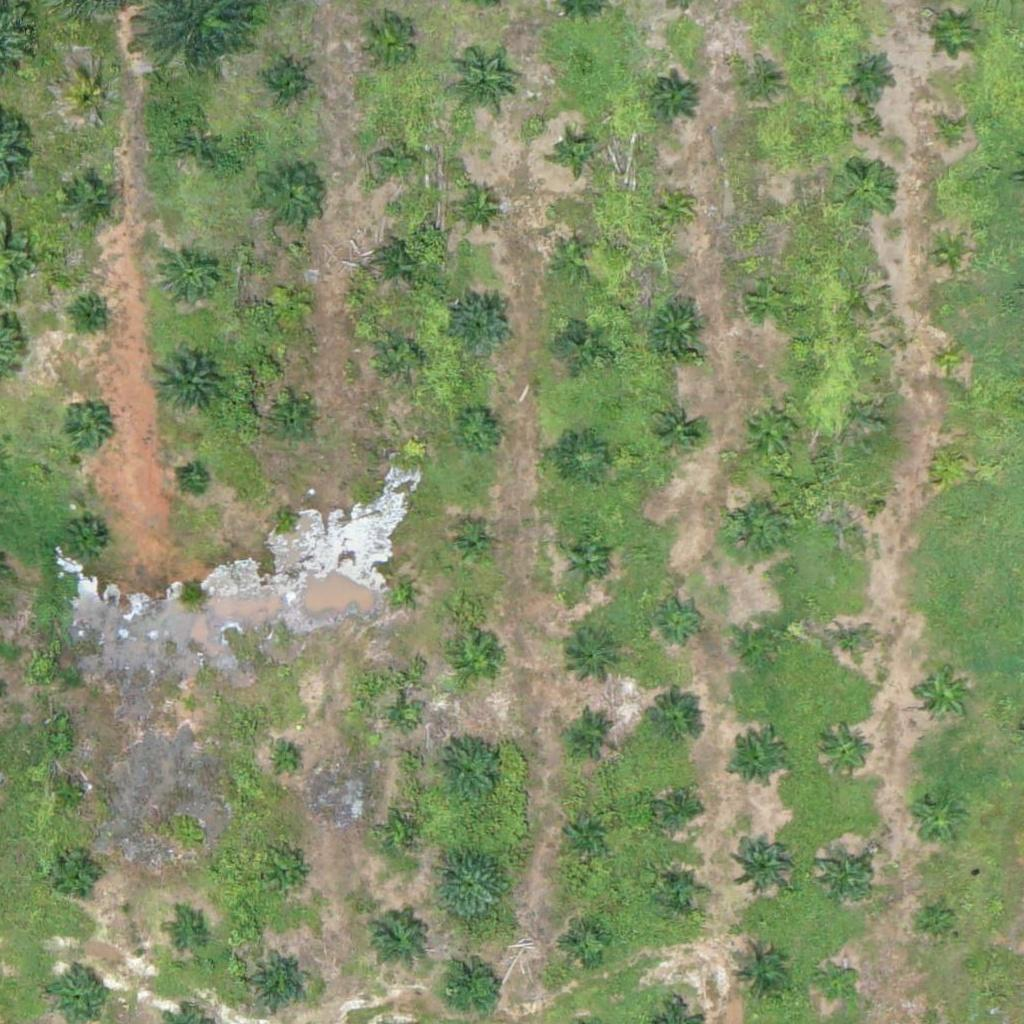Kelapa_Sawit: (430, 732, 505, 808), (434, 846, 509, 922), (151, 344, 226, 420), (363, 905, 426, 968), (905, 787, 968, 850), (248, 951, 311, 1014), (564, 625, 627, 688), (449, 58, 512, 121), (355, 12, 418, 75), (722, 496, 785, 559), (912, 664, 975, 727), (451, 294, 514, 357), (366, 129, 429, 192), (643, 694, 706, 757), (727, 732, 789, 795), (728, 945, 790, 1008), (815, 846, 877, 909), (731, 829, 793, 892), (259, 167, 321, 230), (159, 246, 221, 309), (646, 298, 708, 361), (740, 399, 802, 462), (836, 159, 898, 222), (163, 116, 225, 179), (821, 725, 871, 776), (52, 847, 102, 898), (558, 433, 608, 484), (556, 315, 606, 366), (376, 237, 426, 288), (452, 180, 502, 231), (377, 331, 427, 382), (256, 58, 306, 109), (265, 277, 315, 328), (453, 404, 503, 455), (651, 404, 701, 455), (825, 619, 875, 670), (737, 617, 787, 668), (655, 594, 705, 645), (563, 536, 613, 587), (559, 917, 609, 967), (66, 175, 116, 225), (452, 638, 502, 688), (650, 71, 700, 121), (846, 50, 896, 100), (746, 275, 796, 325), (549, 235, 599, 285), (271, 398, 321, 448), (653, 783, 703, 833), (655, 867, 705, 917), (561, 803, 611, 853), (566, 708, 616, 758), (448, 521, 498, 571), (60, 404, 110, 454), (63, 518, 113, 568), (67, 75, 117, 125), (165, 916, 203, 954), (940, 15, 978, 53), (933, 116, 971, 154), (931, 235, 969, 273), (933, 342, 971, 380), (929, 442, 967, 480), (655, 189, 693, 227), (558, 134, 596, 172), (816, 965, 854, 1003), (270, 859, 307, 897), (741, 67, 778, 105), (753, 196, 790, 234), (836, 494, 873, 532), (54, 777, 91, 815), (919, 902, 956, 939), (180, 467, 205, 493), (392, 823, 417, 849), (385, 578, 410, 603), (390, 706, 415, 731), (273, 749, 298, 774), (273, 505, 298, 530), (81, 303, 106, 328), (179, 694, 204, 719)
